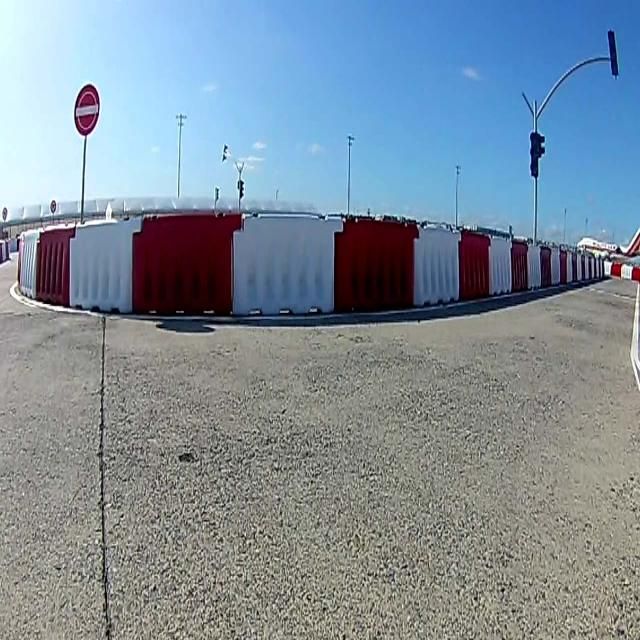girisyok: (74, 83, 100, 137)
